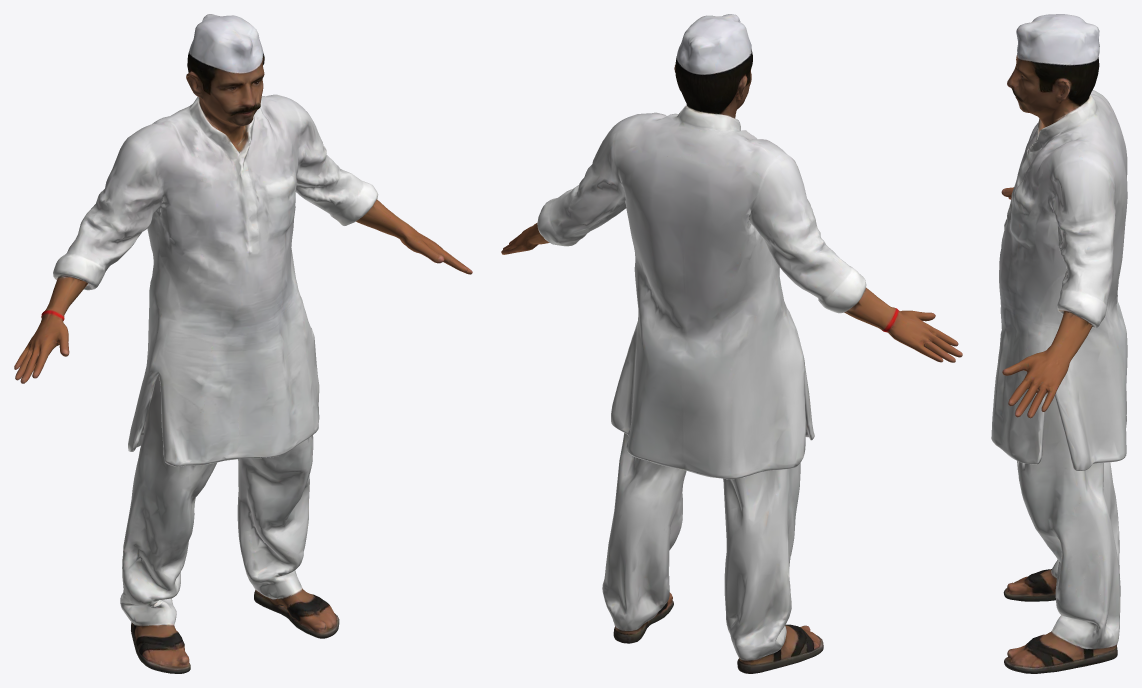
File: npc-dabbawala.glb
3 views of the same model, side by side, from view 1: azimuth 30°, elevation 25°; view 2: azimuth 150°, elevation 25°; view 3: azimuth 270°, elevation 25° (orthographic).
Parts seen in each view (by area): view 1: SK_NPC_Dabbawala; view 2: SK_NPC_Dabbawala; view 3: SK_NPC_Dabbawala.
Part boxes in pixels (left/top/right/bottom): SK_NPC_Dabbawala: left=14, top=14, right=472, bottom=673; SK_NPC_Dabbawala: left=501, top=14, right=962, bottom=673; SK_NPC_Dabbawala: left=991, top=14, right=1127, bottom=673.
Bounding box in the file's own units: 145 × 190 × 38.41.
Materials: 1 (1 with a texture image).
